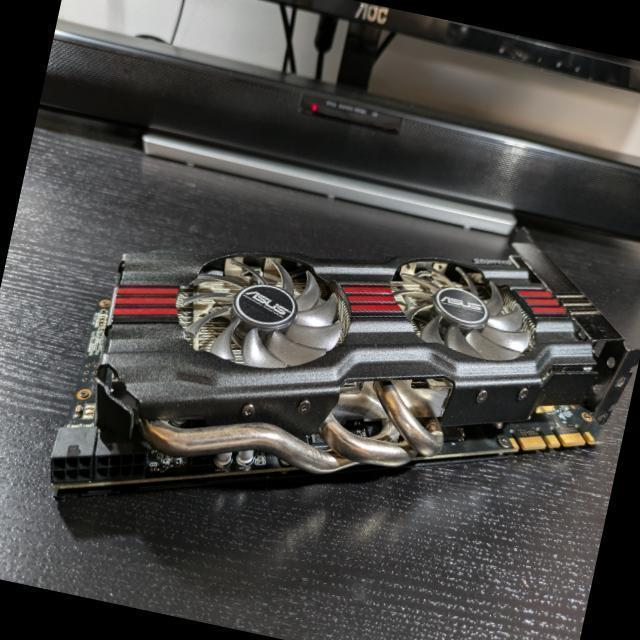GPU: (46, 210, 638, 492)
